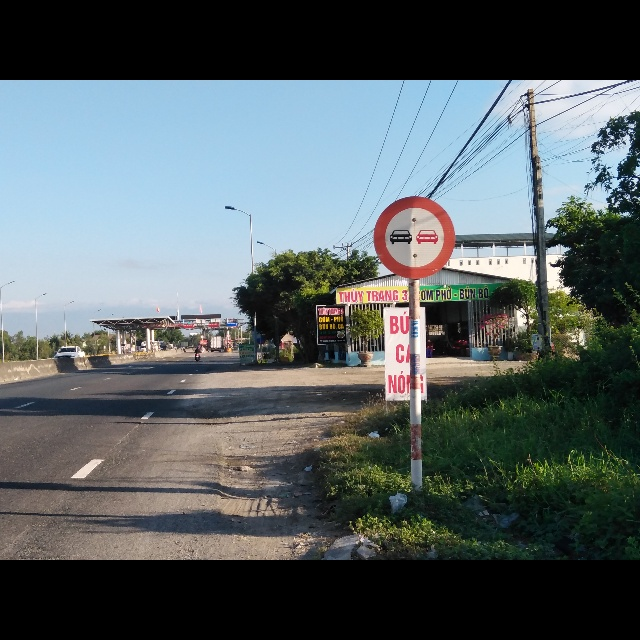Cấm vượt: (370, 195, 456, 279)
